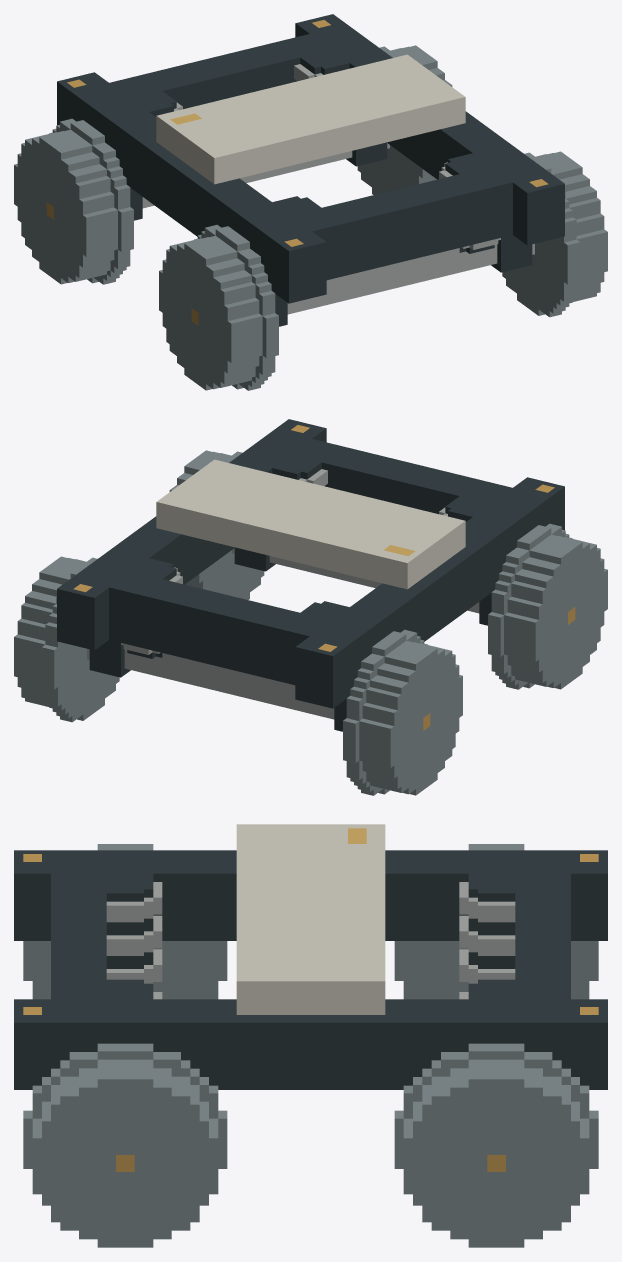
The picture shows the model from 3 angles, top to bottom: view 1: azimuth 30°, elevation 25°; view 2: azimuth 150°, elevation 25°; view 3: azimuth 270°, elevation 25°; orthographic projection. The views are drawn at different scales.
Visible parts, largest first — view 1: 轻轨轮架和磁浮导向底座组件; view 2: 轻轨轮架和磁浮导向底座组件; view 3: 轻轨轮架和磁浮导向底座组件.
Part boxes in pixels (left/top/right/bottom): 轻轨轮架和磁浮导向底座组件: left=14, top=14, right=607, bottom=390; 轻轨轮架和磁浮导向底座组件: left=14, top=419, right=607, bottom=795; 轻轨轮架和磁浮导向底座组件: left=14, top=824, right=607, bottom=1247.
Size of the model in its own units: 3 by 1.4 by 3.2.
6 materials, 6 textured.
